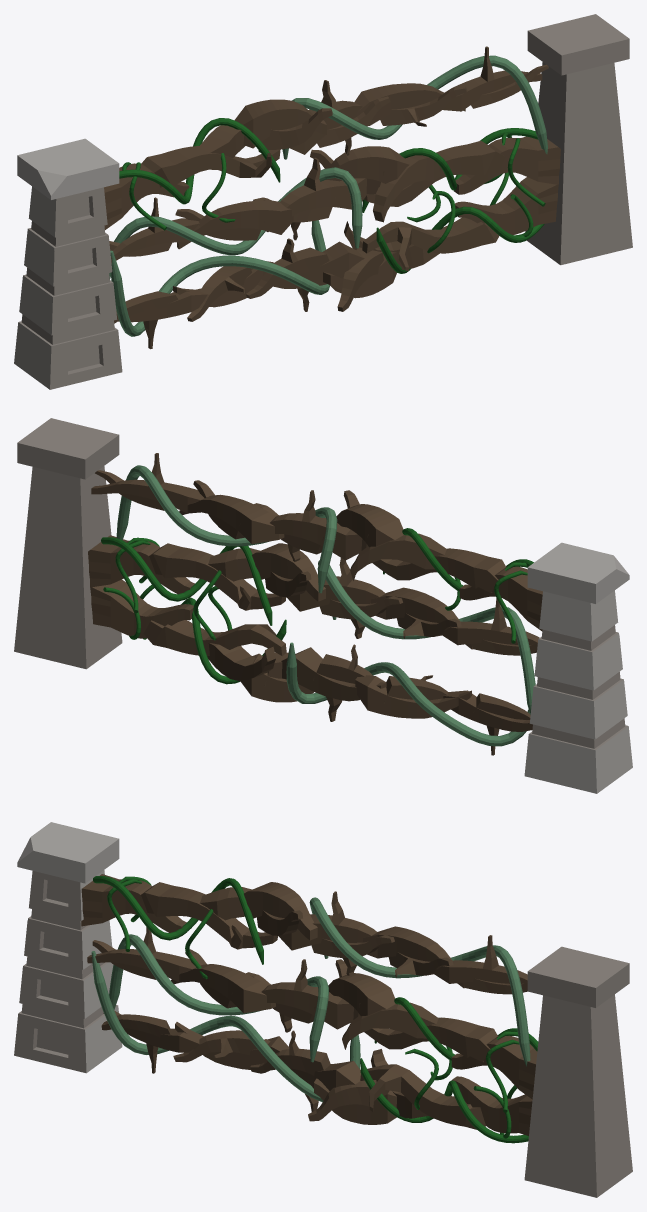
The model's file is GATE CLOSE.fbx.
3 renders of one model, top to bottom at view 1: azimuth 30°, elevation 25°; view 2: azimuth 150°, elevation 25°; view 3: azimuth 330°, elevation 25°, orthographic.
Parts seen in each view (by area): view 1: Cube.240; view 2: Cube.240; view 3: Cube.240.
Boxes of the visible parts, x1=… form: Cube.240: x1=14, y1=14, x2=632, y2=389; Cube.240: x1=14, y1=418, x2=632, y2=793; Cube.240: x1=14, y1=822, x2=632, y2=1197.
Size of the model in its own units: 4421 by 1630 by 600.
